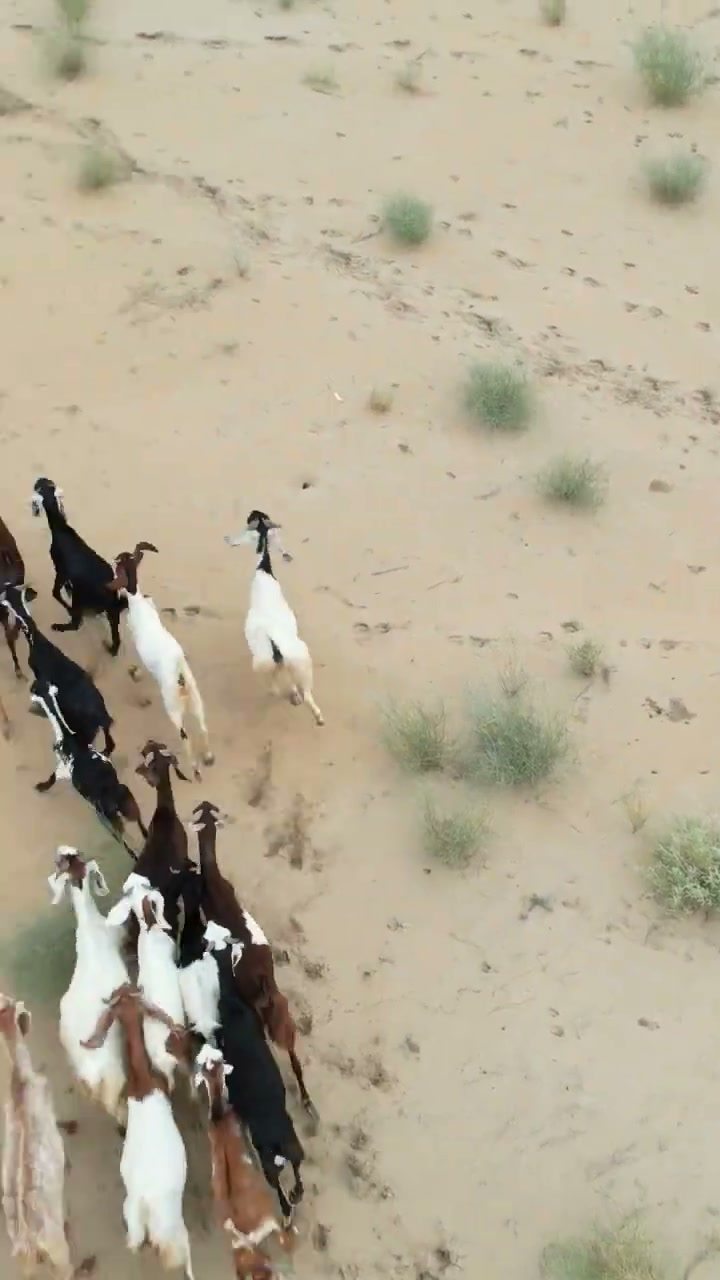animal_footprint: (261, 692, 415, 1241)
